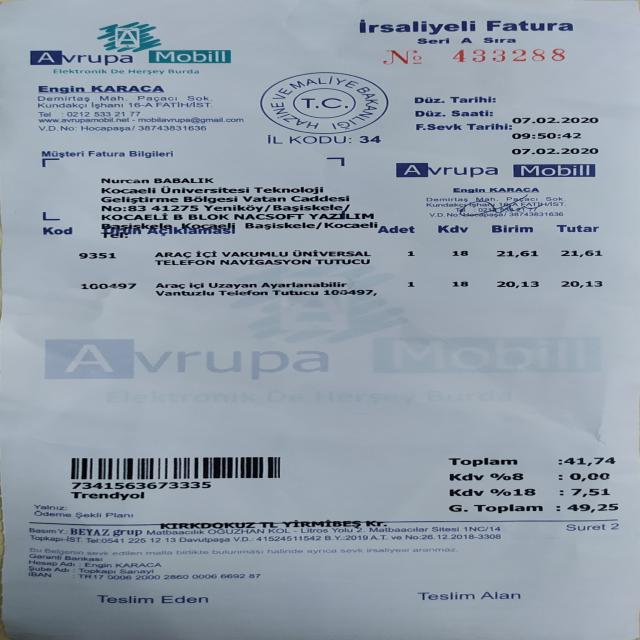text: (48, 335, 331, 378), (388, 338, 602, 374), (358, 18, 474, 34), (450, 47, 564, 62), (486, 16, 572, 34), (395, 162, 497, 177), (33, 51, 132, 65), (512, 162, 594, 177), (152, 48, 230, 63), (70, 481, 210, 488), (137, 116, 243, 124), (219, 257, 309, 266), (160, 185, 248, 194), (158, 520, 255, 528), (424, 531, 499, 541), (70, 490, 144, 500), (36, 116, 128, 124), (382, 49, 424, 66), (291, 248, 370, 257), (472, 503, 542, 513), (448, 457, 517, 467), (511, 147, 597, 155), (260, 281, 346, 289), (256, 532, 322, 542), (91, 84, 161, 93), (254, 185, 323, 194), (365, 524, 427, 534), (296, 97, 347, 109), (246, 221, 314, 230), (149, 227, 236, 234), (285, 519, 361, 527), (511, 117, 597, 124), (146, 526, 205, 536), (100, 222, 172, 230), (233, 212, 303, 220), (208, 526, 264, 536), (100, 196, 177, 203), (274, 204, 340, 212), (100, 212, 166, 220), (221, 249, 287, 257), (155, 289, 213, 298), (178, 533, 230, 543), (180, 221, 237, 230), (308, 211, 372, 219), (96, 594, 152, 603), (510, 132, 580, 139), (100, 185, 154, 194), (324, 221, 378, 230), (314, 257, 368, 266), (203, 204, 262, 212), (154, 258, 213, 266), (290, 194, 348, 202), (138, 125, 204, 132), (566, 503, 617, 512), (416, 591, 473, 599), (564, 456, 614, 465), (100, 536, 175, 542), (289, 135, 345, 143), (80, 282, 135, 290), (322, 288, 370, 297), (324, 532, 367, 542), (210, 546, 262, 554), (161, 594, 207, 603), (154, 177, 212, 184), (569, 472, 609, 482), (570, 487, 610, 497), (217, 289, 266, 297), (425, 202, 490, 208), (207, 281, 255, 289), (39, 85, 81, 94), (36, 95, 90, 102), (182, 195, 236, 202), (151, 204, 197, 212), (271, 289, 317, 297), (425, 195, 470, 203), (187, 211, 227, 220), (115, 561, 160, 569), (128, 150, 172, 158), (365, 545, 409, 553), (480, 590, 519, 599), (80, 125, 130, 132), (449, 95, 492, 103), (40, 150, 83, 158), (411, 544, 454, 552), (37, 102, 86, 109), (70, 527, 108, 536), (449, 487, 483, 497), (29, 534, 63, 544), (556, 224, 598, 232), (495, 250, 537, 258), (560, 249, 601, 257), (560, 280, 601, 288), (508, 211, 562, 217), (266, 545, 302, 554), (101, 177, 147, 184), (469, 122, 509, 130), (53, 68, 106, 74), (415, 123, 460, 130), (241, 195, 285, 202), (111, 526, 141, 536), (153, 250, 190, 258), (44, 547, 81, 555), (478, 207, 537, 212), (496, 281, 538, 288), (301, 524, 330, 534), (88, 150, 124, 158), (378, 225, 414, 233), (79, 252, 115, 260), (33, 510, 69, 518), (78, 566, 114, 574), (491, 225, 532, 232), (137, 95, 177, 102), (103, 228, 142, 235), (449, 472, 483, 480), (175, 546, 208, 554), (121, 568, 154, 576), (155, 281, 184, 290), (431, 524, 457, 534), (128, 68, 164, 75), (64, 554, 100, 561), (488, 187, 538, 192), (416, 36, 447, 44), (483, 36, 514, 44), (29, 552, 60, 560), (564, 524, 604, 530), (111, 546, 141, 554), (305, 545, 335, 553), (41, 226, 70, 234), (28, 559, 57, 567), (505, 194, 537, 201), (450, 110, 487, 116), (27, 528, 63, 534), (105, 512, 132, 520), (168, 68, 198, 75), (154, 101, 184, 108), (513, 487, 534, 497), (413, 96, 439, 104), (144, 546, 170, 554), (84, 560, 110, 568), (462, 212, 502, 217), (490, 487, 510, 497), (268, 525, 288, 535), (463, 524, 483, 534), (33, 504, 61, 511), (90, 102, 122, 108), (448, 503, 467, 513), (332, 524, 351, 534), (372, 532, 391, 542), (195, 249, 216, 258), (76, 573, 102, 580), (452, 187, 482, 193), (75, 511, 100, 518), (429, 212, 458, 218), (102, 232, 131, 238), (89, 546, 108, 555), (358, 135, 379, 143), (489, 472, 510, 480), (106, 573, 130, 580), (99, 95, 122, 102), (220, 572, 243, 579), (340, 545, 360, 553), (414, 110, 440, 116), (186, 95, 208, 102), (28, 565, 50, 572), (101, 204, 120, 212), (134, 573, 158, 579), (163, 573, 187, 579), (191, 573, 215, 579), (40, 125, 60, 132), (404, 531, 418, 541), (520, 201, 543, 207), (193, 100, 210, 108), (66, 110, 88, 116), (28, 571, 50, 577), (128, 204, 144, 212), (451, 280, 467, 288), (261, 520, 277, 528), (60, 560, 76, 568), (476, 195, 494, 202), (189, 281, 203, 290), (235, 532, 247, 542), (451, 249, 467, 256), (390, 532, 401, 542), (544, 196, 562, 202), (268, 135, 281, 143), (489, 524, 499, 534), (60, 125, 74, 132), (54, 566, 68, 573), (459, 36, 471, 44), (94, 110, 110, 116), (511, 472, 522, 480), (111, 68, 123, 75), (551, 201, 565, 207), (172, 212, 182, 220), (358, 524, 366, 534), (30, 547, 40, 555), (127, 101, 138, 108), (248, 572, 259, 579), (37, 111, 49, 117), (85, 537, 97, 543), (610, 522, 618, 530), (499, 201, 508, 208), (129, 110, 139, 116), (294, 525, 300, 535), (63, 534, 69, 544), (79, 534, 85, 544), (248, 532, 254, 542), (114, 110, 123, 116), (383, 518, 389, 527), (494, 194, 500, 202), (407, 280, 413, 288), (456, 208, 468, 212), (316, 221, 321, 230), (373, 225, 378, 233), (558, 456, 562, 466), (558, 472, 562, 482), (559, 487, 563, 497), (555, 503, 559, 513), (418, 531, 422, 541), (407, 250, 413, 256), (491, 95, 495, 103), (188, 100, 192, 108), (208, 100, 212, 108), (508, 122, 512, 130), (266, 204, 270, 212), (484, 524, 487, 534), (147, 101, 151, 108), (74, 125, 78, 132), (488, 109, 492, 116), (512, 201, 516, 208), (563, 200, 567, 207), (372, 288, 375, 297), (546, 201, 550, 207), (440, 96, 443, 103), (78, 560, 81, 567), (441, 110, 444, 116), (132, 116, 134, 124), (123, 204, 125, 212), (455, 544, 457, 552), (124, 95, 126, 102), (141, 101, 143, 108), (133, 125, 135, 132), (72, 566, 74, 573), (504, 212, 506, 217), (349, 135, 350, 143), (72, 573, 73, 580), (60, 111, 61, 117), (65, 504, 66, 510), (210, 95, 210, 102)
